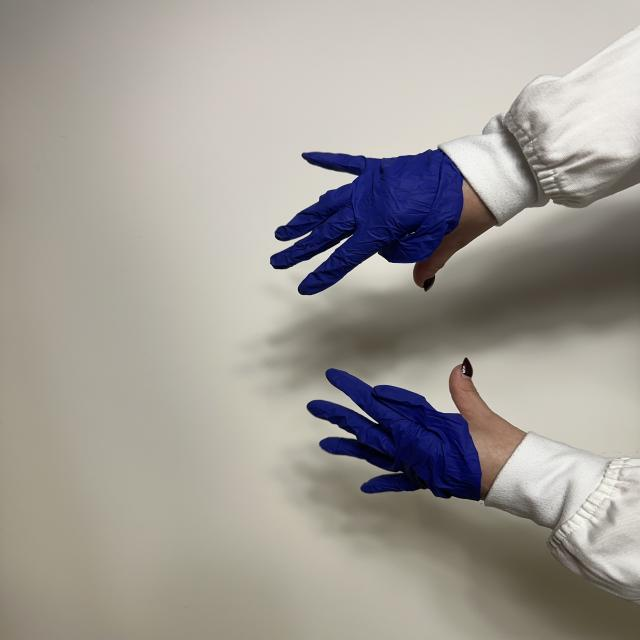glove_partial: (271, 151, 496, 295), (308, 358, 526, 500)
